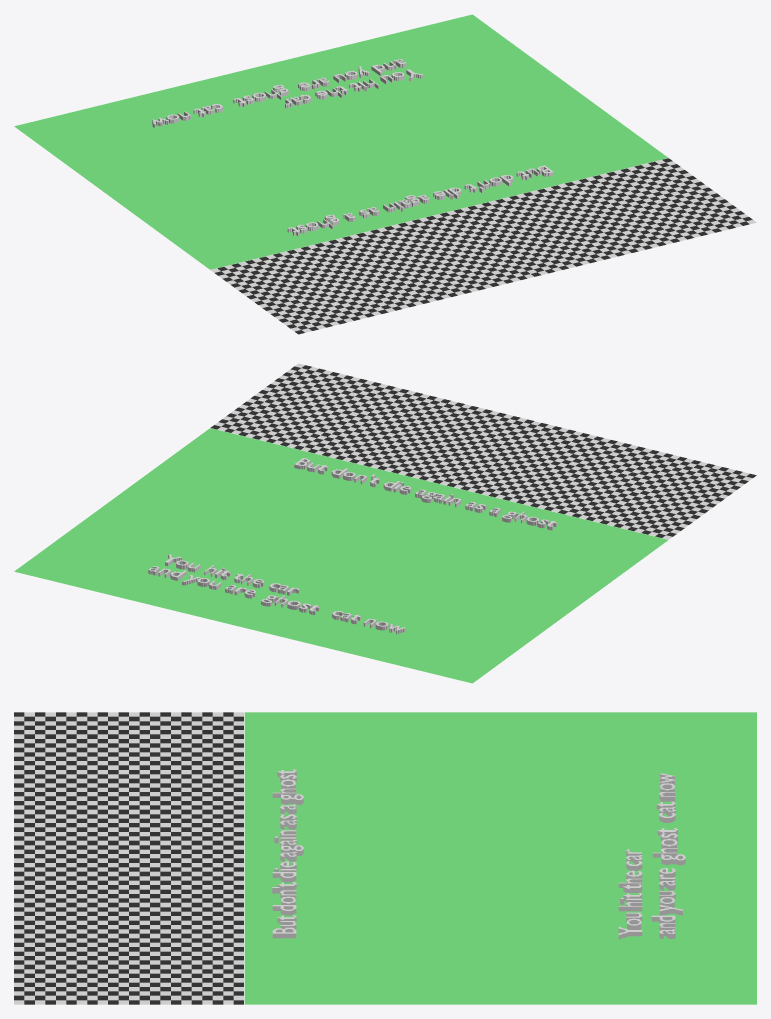
Rendered from Map01.fbx.
3 renders of one model, top to bottom at view 1: azimuth 30°, elevation 25°; view 2: azimuth 150°, elevation 25°; view 3: azimuth 270°, elevation 25°, orthographic. The views are drawn at different scales.
Visible parts, largest first — view 1: Intro.001; view 2: Intro.001; view 3: Intro.001.
Boxes of the visible parts, x1,y1,x2,y2 form: Intro.001: (14,14,756,334); Intro.001: (14,363,756,683); Intro.001: (14,712,756,1004).
Size of the model in its own units: 1800 by 35.08 by 1934.
